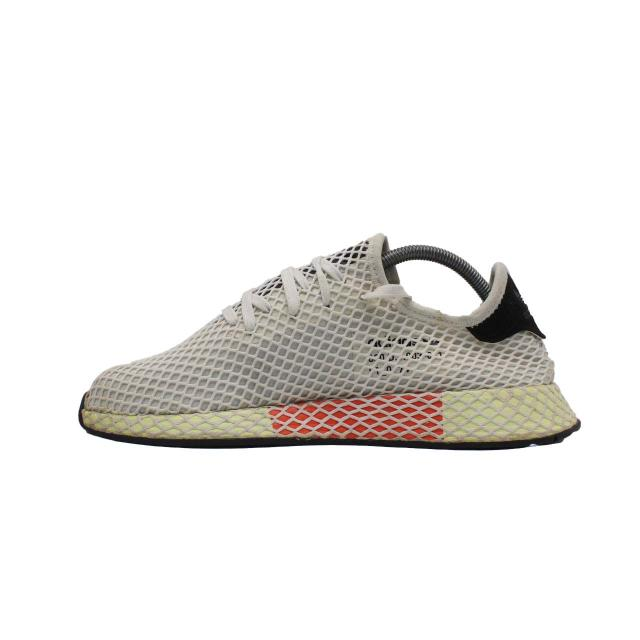heel: (466, 260, 560, 388)
midsole: (77, 382, 580, 442)
uppersole: (86, 232, 508, 416)
